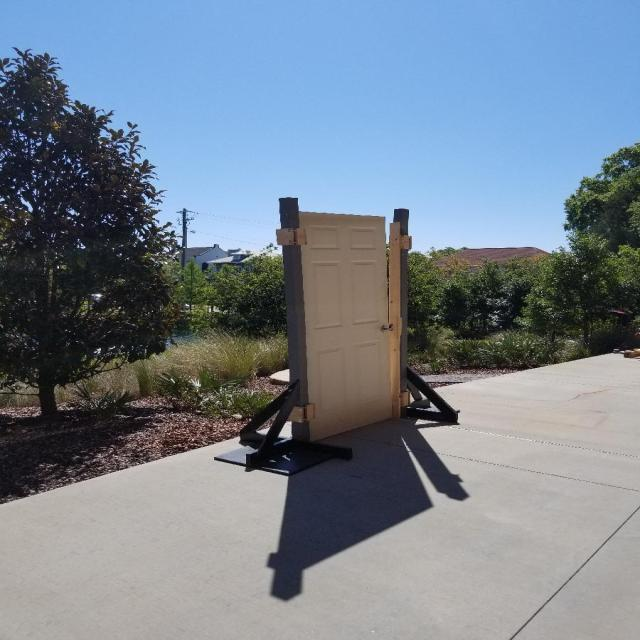door: (292, 206, 396, 446), (378, 322, 391, 337)
